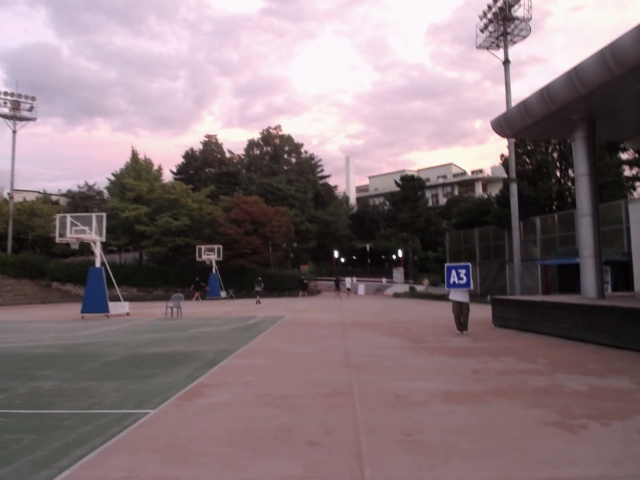delivery_a3: (444, 263, 471, 289)
